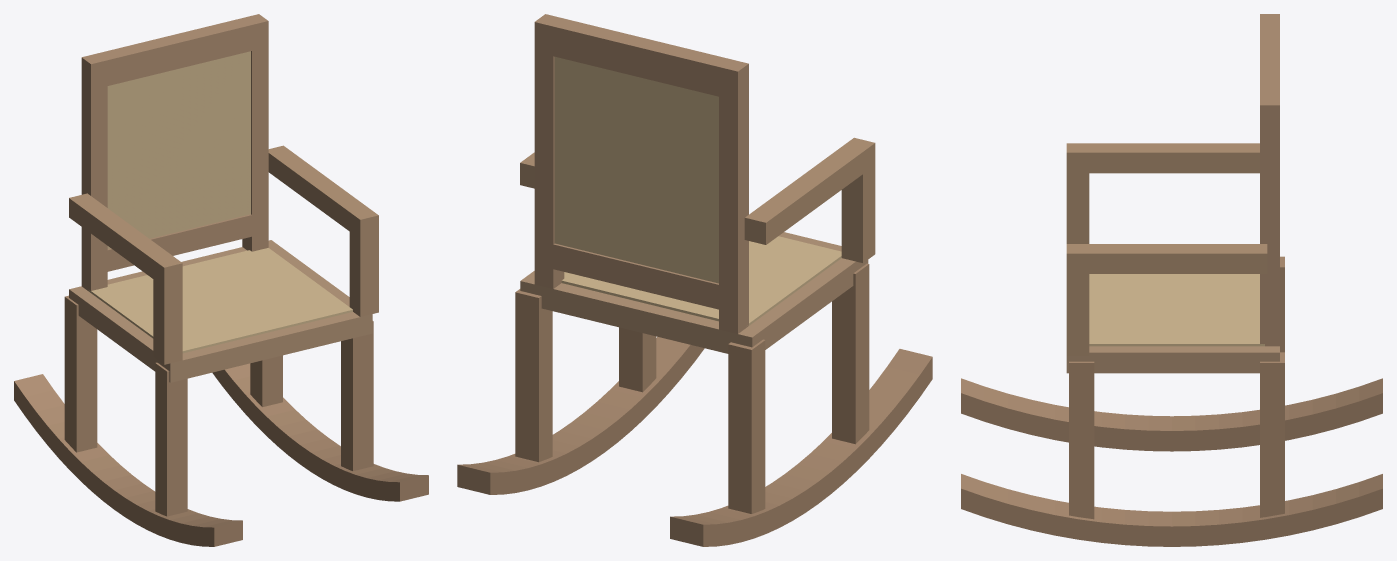
The picture shows the model from 3 angles, left to right: view 1: azimuth 30°, elevation 25°; view 2: azimuth 150°, elevation 25°; view 3: azimuth 270°, elevation 25°; orthographic projection. The views are drawn at different scales.
Visible parts, largest first — view 1: BackPanel, BackFrame, Runners, Legs, SeatPanel, Arms, SeatRails; view 2: BackPanel, BackFrame, Runners, Legs, SeatRails, Arms, SeatPanel; view 3: Runners, Arms, SeatPanel, Legs, BackFrame, SeatRails.
Boxes of the visible parts, <box> form: BackPanel: <box>107,51,250,248</box>; BackFrame: <box>81,14,268,290</box>; Runners: <box>14,363,428,546</box>; Legs: <box>64,295,373,516</box>; SeatPanel: <box>88,248,352,353</box>; Arms: <box>69,145,378,364</box>; SeatRails: <box>69,240,372,382</box>; BackPanel: <box>554,56,718,283</box>; BackFrame: <box>534,14,748,333</box>; Runners: <box>457,336,932,546</box>; Legs: <box>515,263,869,513</box>; SeatRails: <box>520,232,868,353</box>; Arms: <box>520,137,875,262</box>; SeatPanel: <box>561,236,841,325</box>; Runners: <box>961,378,1382,546</box>; Arms: <box>1066,143,1267,355</box>; SeatPanel: <box>1089,274,1264,346</box>; Legs: <box>1069,256,1284,519</box>; BackFrame: <box>1260,14,1279,346</box>; SeatRails: <box>1066,346,1279,373</box>.
Size of the model in its own units: 0.52 by 0.95 by 0.84.
